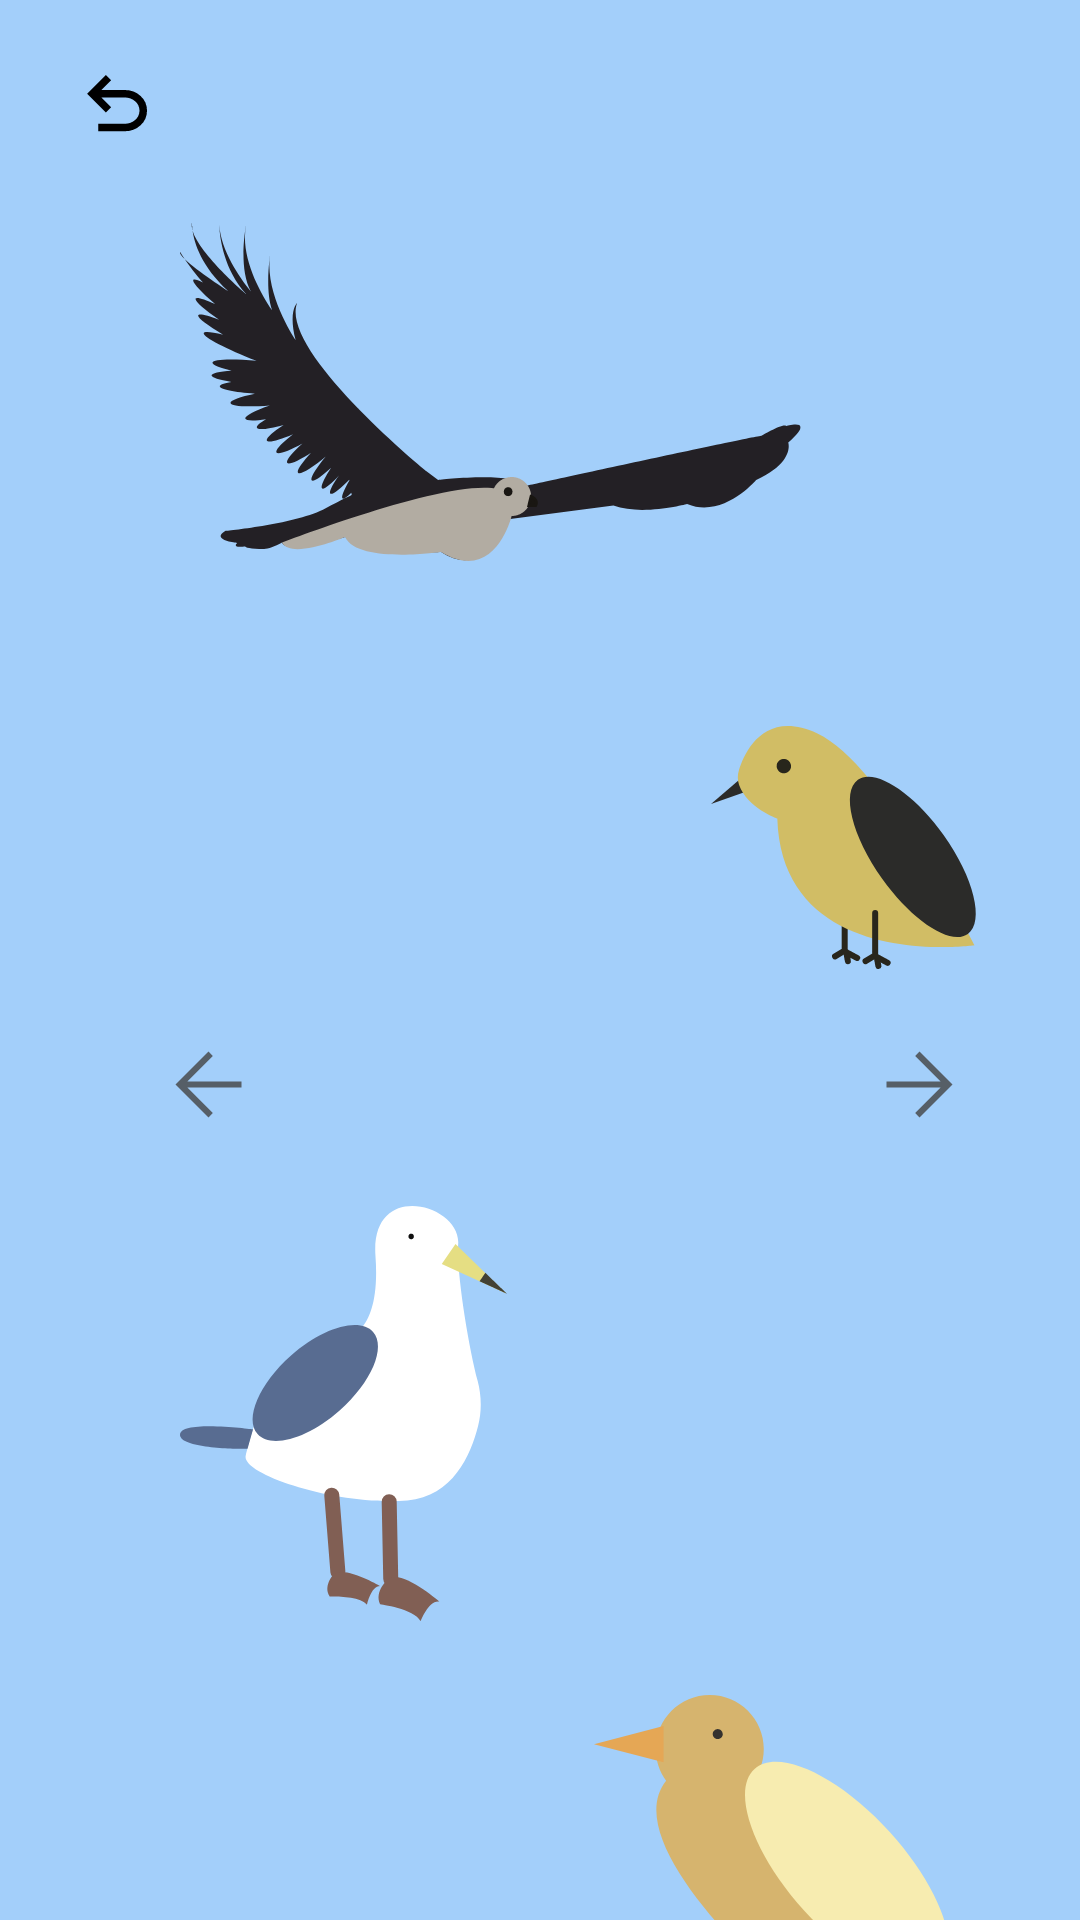

Named icons in this screenshot (1080×1920) and their centers, point (x, y):
slidebutton: point (208, 1084), point (919, 1084)
undo: point (117, 103)
